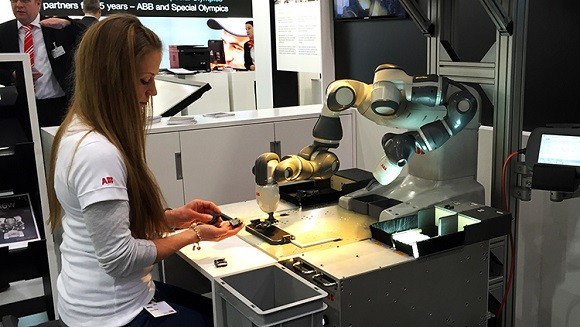person: (54, 13, 246, 327)
robot: (252, 64, 485, 225)
